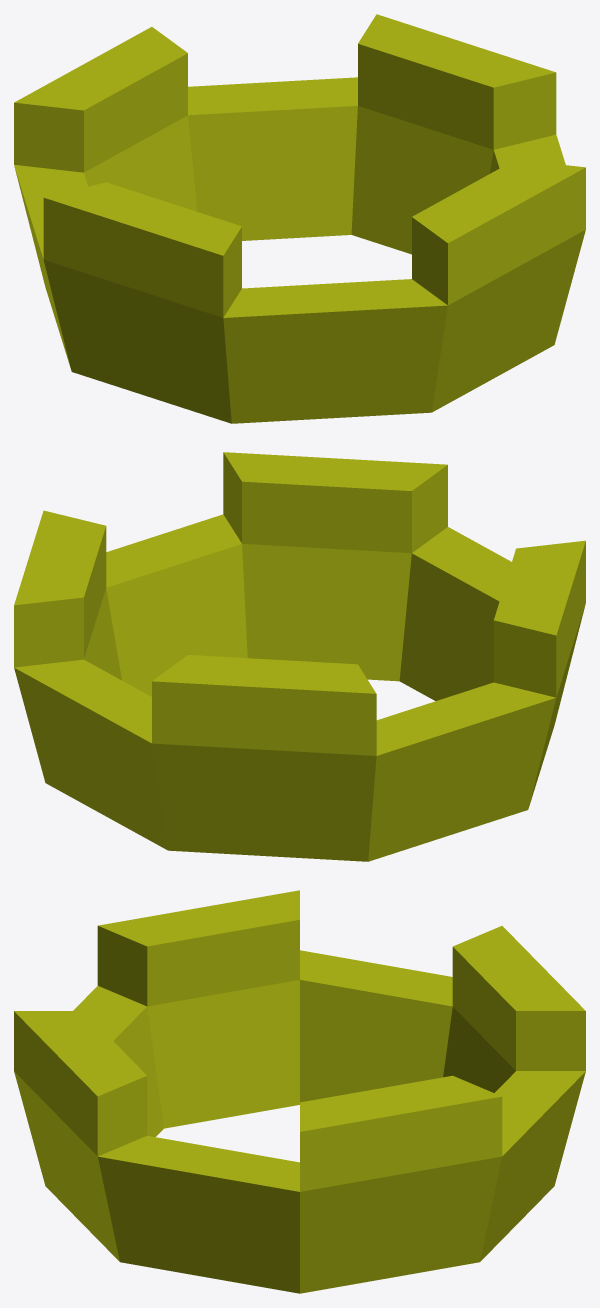
File: cannonhead.fbx
3 views of the same model, one above another, from view 1: azimuth 30°, elevation 25°; view 2: azimuth 150°, elevation 25°; view 3: azimuth 270°, elevation 25° (orthographic). The views are drawn at different scales.
Visible parts, largest first — view 1: Sphere.002; view 2: Sphere.002; view 3: Sphere.002.
Boxes of the visible parts, x1,y1,x2,y2 form: Sphere.002: (14, 14, 585, 423); Sphere.002: (14, 452, 585, 861); Sphere.002: (14, 890, 585, 1293).
Size of the model in its own units: 210 by 71 by 210.
